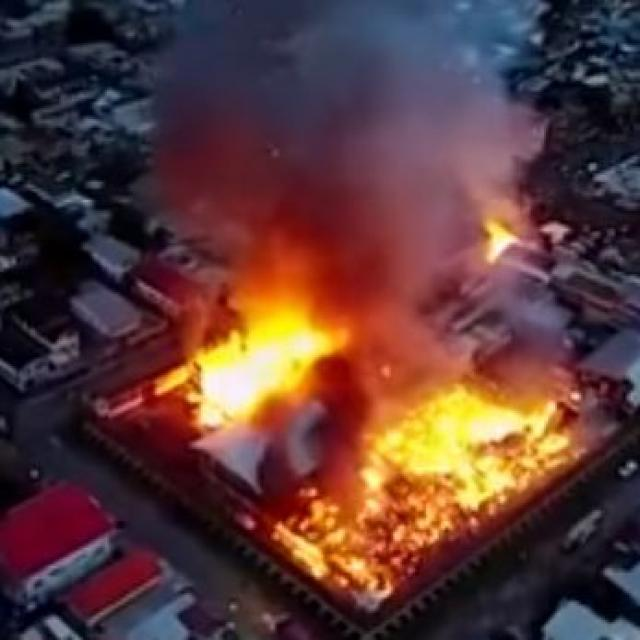Smoke: (149, 0, 524, 404)
